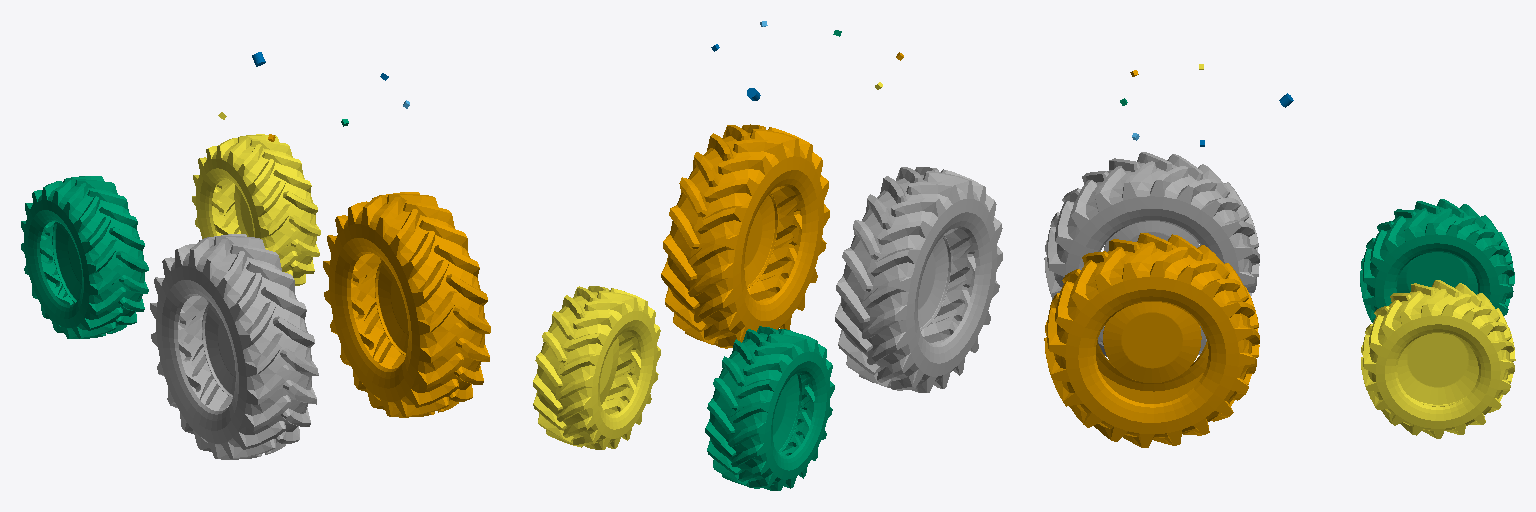
URDF robot description (vario700_sensorrig):
<?xml version="1.0" encoding="UTF-8"?>
<robot name="vario700_sensorrig">
  <joint name="sensorrig_joint" type="fixed">
    <origin xyz="0 -1.35969 2.89559" rpy="0 0 1.5707964"/>
    <parent link="base_link"/>
    <child link="sensorrig"/>
  </joint>

  <!-- OS-Sensor Links and Joints -->
  <!-- Currently just manually measured by aligning OS-Sensor Pointcloud with Fendt 724 model -->
  <joint name="joint_base_link-os_sensor" type="fixed">
    <!-- Last manual align on barn: <origin xyz="0.0 0.26 2.98" rpy="0 -0.802851 -1.570796"/> -->
    <origin xyz="0.10 0.26 2.98" rpy="0 -0.812851 -1.570796"/>
    <parent link="base_link"/>
    <child link="os_sensor"/>
  </joint>

  <joint name="os_sensor_to_os_lidar" type="fixed">
    <origin xyz="0 0 0.038195" rpy="0 0 0"/>
    <parent link="os_sensor"/>
    <child link="os_lidar"/>
  </joint>

  <!-- From Ouster ROS Wrapper -->
  <joint name="os_imu_joint" type="fixed">
    <origin xyz="-0.002441 -0.009725 0.007533" rpy="0 -1.570796 0"/>
    <parent link="os_sensor"/>
    <child link="os_imu"/>
  </joint>

  <!-- Camera Links and Joints: Derived from MSA-Calibration -->
  <joint name="joint_os_sensor-camera_rear_left" type="fixed">
    <origin xyz="0.987213 -0.716739 -1.10573" rpy="0.338194 -2.49739 0.754168"/>
    <parent link="os_sensor"/>
    <child link="camera_rear_left"/>
  </joint>

  <joint name="joint_os_sensor-blickfeld" type="fixed">
    <origin xyz="1.08013 0.0128897 -1.15956" rpy="0.188916 -3.11455 1.56053"/>
    <parent link="os_sensor"/>
    <child link="Root"/>
  </joint>

  <joint name="joint_os_sensor-camera_rear_mid" type="fixed">
    <origin xyz="1.08013 0.0128897 -1.15956" rpy="0.188916 -3.11455 1.56053"/>
    <parent link="os_sensor"/>
    <child link="camera_rear_mid"/>
  </joint>

  <joint name="joint_os_sensor-camera_rear_right" type="fixed">
    <origin xyz="0.979937 0.739726 -1.09765" rpy="0.467141 2.53466 2.30594"/>
    <parent link="os_sensor"/>
    <child link="camera_rear_right"/>
  </joint>

  <joint name="joint_os_sensor-camera_side_left" type="fixed">
    <origin xyz="0.536304 -0.868147 -0.633051" rpy="0.791996 -2.31362 0.0204264"/>
    <parent link="os_sensor"/>
    <child link="camera_side_left"/>
  </joint>

  <joint name="joint_os_sensor-camera_side_right" type="fixed">
    <origin xyz="0.522142 0.877865 -0.631033" rpy="-2.27836 0.834522 0.0180667"/>
    <parent link="os_sensor"/>
    <child link="camera_side_right"/>
  </joint>


  <!-- ZED Camera Links and Joints -->
  <!-- DEPRECATED -->
  <!-- Manually alligned ZED-Pointcloud with Fendt 724 model / Ouster-Pointcloud -->
  <!-- 
  <joint name="zed_camera_link_joint" type="fixed">
    <origin xyz="0.08 0.26  3.05" rpy="0.0 0.427851 1.570796"/>
    <parent link="base_link"/>
    <child link="zed_camera_link"/>
  </joint>
  -->

  <!-- NEW -->
  <!-- ICP-Registration of ZED-Pointcloud with Ouster-Pointcloud -->
  <!-- Right Camera Frames not included yet -->
  <joint name="zed_left_camera_joint" type="fixed">
    <parent link="os_sensor"/>
    <child link="zed_left_camera_frame"/>
    <!-- ICP from barn, seemed visually off -->
    <!-- <origin xyz="-0.017881 -0.118638 0.062218" rpy="-0.015401 -0.354727 -3.119028"/>  -->
    <!-- ICP Windrow 4 -->
    <!-- <origin xyz="-0.026789 -0.098001 0.035757" rpy="-0.019154 -0.401029 -3.126174"/>  -->
    <!-- ICP Garage -->
    <origin xyz="0.166753 -0.157008 -0.192582" rpy="-0.007683 -0.361936 -3.122481"/>
  </joint>

   <!-- From ZED ROS Wrapper -->
  <joint name="zed_left_camera_optical_frame_joint" type="fixed">
    <origin xyz="0 0 0" rpy="-1.57079632679 0 -1.57079632679"/>
    <parent link="zed_left_camera_frame"/>
    <child link="zed_left_camera_optical_frame"/>
  </joint>

  <joint name="zed_camera_center_joint" type="fixed">
    <origin xyz="0.010 -0.060 0.000" rpy="0 0 0"/>
    <parent link="zed_left_camera_frame"/>
    <child link="zed_camera_center"/>
  </joint>

  <joint name="zed_right_camera_joint" type="fixed">
    <origin xyz="-0.010 -0.060 0.000" rpy="0 0 0"/>
    <parent link="zed_camera_center"/>
    <child link="zed_right_camera_frame"/>
  </joint>

  <joint name="zed_camera_link_joint" type="fixed">
    <origin xyz="0 0 -0.015" rpy="0 0 0"/>
    <parent link="zed_camera_center"/>
    <child link="zed_camera_link"/>
  </joint>

  <joint name="zed_right_camera_optical_frame_joint" type="fixed">
    <origin xyz="0 0 0" rpy="-1.57079632679 0 -1.57079632679"/>
    <parent link="zed_right_camera_frame"/>
    <child link="zed_right_camera_optical_frame"/>
  </joint>




  <joint name="back_left_joint" type="fixed">
    <origin xyz="-0.929712 -1.05215 0.79196" rpy="0 0 3.1415927"/>
    <parent link="base_link"/>
    <child link="back_left_wheel"/>
  </joint>

  <joint name="back_right_joint" type="fixed">
    <origin xyz="0.929712 -1.05215 0.79196" rpy="0 0 3.1415927"/>
    <parent link="base_link"/>
    <child link="back_right_wheel"/>
  </joint>

  <joint name="front_left_joint" type="fixed">
    <origin xyz="-0.934094 1.72967 0.581455" rpy="0 0 3.1415927"/>
    <parent link="base_link"/>
    <child link="front_left_wheel"/>
  </joint>

  <joint name="front_right_joint" type="fixed">
    <origin xyz="0.934094 1.72967 0.581455" rpy="0 0 3.1415927"/>
    <parent link="base_link"/>
    <child link="front_right_wheel"/>
  </joint>

  <!-- Visual and Collision Links -->
  <!-- Added geometry to make it easier to visualize in Rviz -->
  <link name="camera_rear_left"><visual><geometry><box size="0.05 0.05 0.05"/></geometry></visual></link>
  <link name="camera_rear_right"><visual><geometry><box size="0.05 0.05 0.05"/></geometry></visual></link>
  <link name="camera_rear_mid"><visual><geometry><box size="0.05 0.05 0.05"/></geometry></visual></link>
  <link name="camera_side_left"><visual><geometry><box size="0.05 0.05 0.05"/></geometry></visual></link>
  <link name="camera_side_right"><visual><geometry><box size="0.05 0.05 0.05"/></geometry></visual></link>

  <link name="Root"><visual><geometry><box size="0.05 0.05 0.05"/></geometry></visual></link>

  <link name="zed_camera_link"></link>
  <link name="zed_camera_center"></link>
  <link name="zed_left_camera_frame"></link>
  <link name="zed_right_camera_frame"></link>
  <!-- <link name="zed_imu_link"></link> -->
  <link name="zed_left_camera_optical_frame"></link>
  <link name="zed_right_camera_optical_frame"></link>

  <link name="os_sensor"><visual><geometry><cylinder radius="0.05" length="0.1"/></geometry></visual></link>
  <link name="os_lidar"/>
  <link name="os_imu"/>


  <!-- Wheel Links and Joints -->
  <!-- Geometry is from Fendt 724 model Farming Simulator 22 -->
  <!-- Needs further refinement, especially in the mass and inertia -->
  <link name="back_left_wheel">
    <inertial><origin xyz="0 0 0" rpy="0 0 0"/><mass value="1"/><inertia ixx="0.01" ixy="0" ixz="0" iyy="0.01" iyz="0" izz="0.01"/></inertial>
    <visual><origin xyz="0 0 0" rpy="0 0 0"/><geometry><mesh filename="package://vario700_sensorrig/meshes/back_left_wheel_visuals.obj" scale="0.1 0.1 0.1"/></geometry></visual>
    <collision><origin xyz="0 0 0" rpy="0 0 0"/><geometry><mesh filename="package://vario700_sensorrig/meshes/back_left_wheel_collisions.obj" scale="0.1 0.1 0.1"/></geometry></collision>
  </link>

  <link name="back_right_wheel">
    <inertial><origin xyz="0 0 0" rpy="0 0 0"/><mass value="1"/><inertia ixx="0.01" ixy="0" ixz="0" iyy="0.01" iyz="0" izz="0.01"/></inertial>
    <visual><origin xyz="0 0 0" rpy="0 0 0"/><geometry><mesh filename="package://vario700_sensorrig/meshes/back_right_wheel_visuals.obj" scale="0.1 0.1 0.1"/></geometry></visual>
    <collision><origin xyz="0 0 0" rpy="0 0 0"/><geometry><mesh filename="package://vario700_sensorrig/meshes/back_right_wheel_collisions.obj" scale="0.1 0.1 0.1"/></geometry></collision>
  </link>

  <link name="base_link">
    <inertial><origin xyz="0 0 0" rpy="0 0 0"/><mass value="10"/><inertia ixx="1" ixy="0" ixz="0" iyy="1" iyz="0" izz="1"/></inertial>
    <visual><origin xyz="0 0 0" rpy="0 0 0"/><geometry><mesh filename="package://vario700_sensorrig/meshes/base_link_visuals.obj" scale="0.1 0.1 0.1"/></geometry></visual>
    <collision><origin xyz="0 0 0" rpy="0 0 0"/><geometry><mesh filename="package://vario700_sensorrig/meshes/base_link_collisions.obj" scale="0.1 0.1 0.1"/></geometry></collision>
  </link>

  <link name="front_left_wheel">
    <inertial><origin xyz="0 0 0" rpy="0 0 0"/><mass value="1"/><inertia ixx="0.01" ixy="0" ixz="0" iyy="0.01" iyz="0" izz="0.01"/></inertial>
    <visual><origin xyz="0 0 0" rpy="0 0 0"/><geometry><mesh filename="package://vario700_sensorrig/meshes/front_left_wheel_visuals.obj" scale="0.1 0.1 0.1"/></geometry></visual>
    <collision><origin xyz="0 0 0" rpy="0 0 0"/><geometry><mesh filename="package://vario700_sensorrig/meshes/front_left_wheel_collisions.obj" scale="0.1 0.1 0.1"/></geometry></collision>
  </link>

  <link name="front_right_wheel">
    <inertial><origin xyz="0 0 0" rpy="0 0 0"/><mass value="1"/><inertia ixx="0.01" ixy="0" ixz="0" iyy="0.01" iyz="0" izz="0.01"/></inertial>
    <visual><origin xyz="0 0 0" rpy="0 0 0"/><geometry><mesh filename="package://vario700_sensorrig/meshes/front_right_wheel_visuals.obj" scale="0.1 0.1 0.1"/></geometry></visual>
    <collision><origin xyz="0 0 0" rpy="0 0 0"/><geometry><mesh filename="package://vario700_sensorrig/meshes/front_right_wheel_collisions.obj" scale="0.1 0.1 0.1"/></geometry></collision>
  </link>

  <!-- Sensorrig Links and Joints -->
  <!-- Handmade CAD Model -->
  <link name="sensorrig">
    <inertial><origin xyz="0 0 0" rpy="0 0 0"/><mass value="2"/><inertia ixx="0.1" ixy="0" ixz="0" iyy="0.1" iyz="0" izz="0.1"/></inertial>
    <visual><origin xyz="0 0 0" rpy="0 0 0"/><geometry><mesh filename="package://vario700_sensorrig/meshes/sensorrig_visuals.obj" scale="0.001 0.001 0.001"/></geometry></visual>
    <collision><origin xyz="0 0 0" rpy="0 0 0"/><geometry><mesh filename="package://vario700_sensorrig/meshes/sensorrig_collisions.obj" scale="0.001 0.001 0.001"/></geometry></collision>
  </link>
</robot>

--- Facts derived from the render (not from the file) ---
Views: 3 orthographic renders of the robot side by side, from view 1: azimuth 30°, elevation 25°; view 2: azimuth 150°, elevation 25°; view 3: azimuth 270°, elevation 25°.
Model vario700_sensorrig with 21 links and 20 joints (20 fixed), rooted at base_link, posed every joint at zero.
Links seen in each view (by area): view 1: back_left_wheel, back_right_wheel, front_left_wheel, front_right_wheel; view 2: back_left_wheel, back_right_wheel, front_right_wheel, front_left_wheel; view 3: back_right_wheel, front_right_wheel, back_left_wheel, front_left_wheel.
Boxes of the visible links, <box> form: back_left_wheel: <box>150,234,318,459</box>; back_right_wheel: <box>323,192,490,417</box>; front_left_wheel: <box>21,176,148,338</box>; front_right_wheel: <box>192,134,320,285</box>; back_left_wheel: <box>835,167,1002,392</box>; back_right_wheel: <box>661,124,829,348</box>; front_right_wheel: <box>533,286,660,449</box>; front_left_wheel: <box>705,326,834,490</box>; back_right_wheel: <box>1044,233,1259,447</box>; front_right_wheel: <box>1361,280,1515,438</box>; back_left_wheel: <box>1044,152,1259,356</box>; front_left_wheel: <box>1360,199,1514,322</box>.
Size in the robot's own frame: 2.59 by 4.59 by 3.31 metres.
4 mesh visuals loaded from 6 distinct referenced files (4 OBJ); not drawn: 2 (reference not matched to a file when rendering).